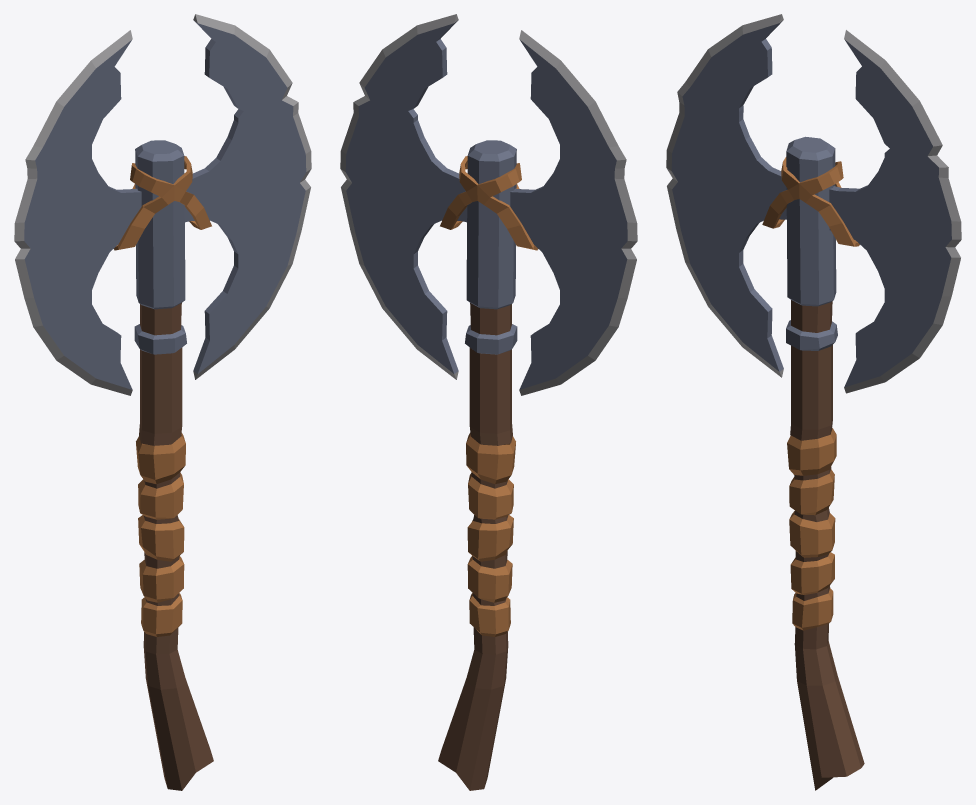
File: HachaDoble 1.fbx
3 renders of one model, left to right at view 1: azimuth 30°, elevation 25°; view 2: azimuth 150°, elevation 25°; view 3: azimuth 330°, elevation 25°, orthographic.
Parts seen in each view (by area): view 1: Axe_Double; view 2: Axe_Double; view 3: Axe_Double.
Boxes of the visible parts, <box> form: Axe_Double: <box>14,14,311,790</box>; Axe_Double: <box>340,14,637,790</box>; Axe_Double: <box>666,14,961,790</box>.
Size of the model in its own units: 87.12 by 215 by 13.55.
